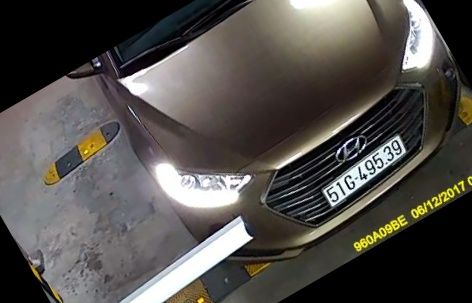plate: (314, 123, 409, 211)
